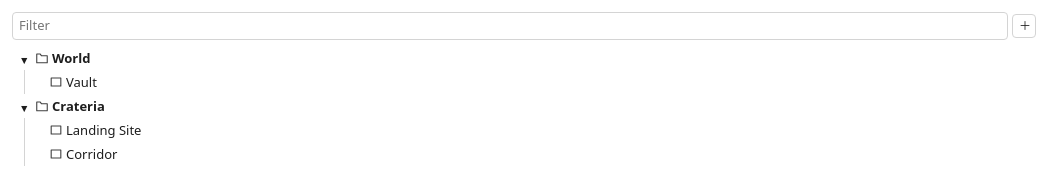
Scenario: HierarchyPanel › the filter › says so rather than showing an empty tree
The image size is (1048, 183).
In the search field with class "hierarchy-filter": [510, 26] box [12, 12, 1008, 40], type "zzz"
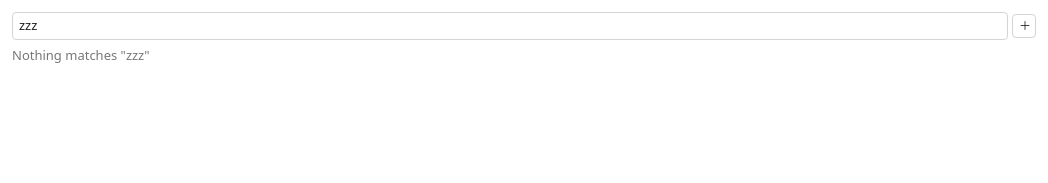
expect the text with class "hierarchy-empty" shows "zzz": met, box [12, 46, 150, 64]
